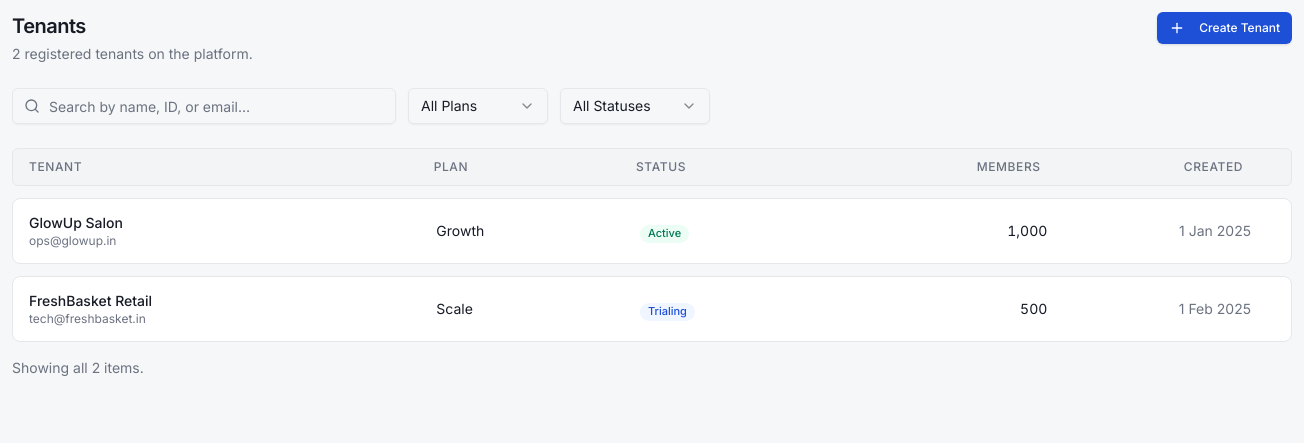
Scenario: TenantList › shows empty state when filters match no tenants (positive)
Step 1. Type "xyznonexistent" into the search field named "search tenants" → point(204, 106), box [12,88,396,124]
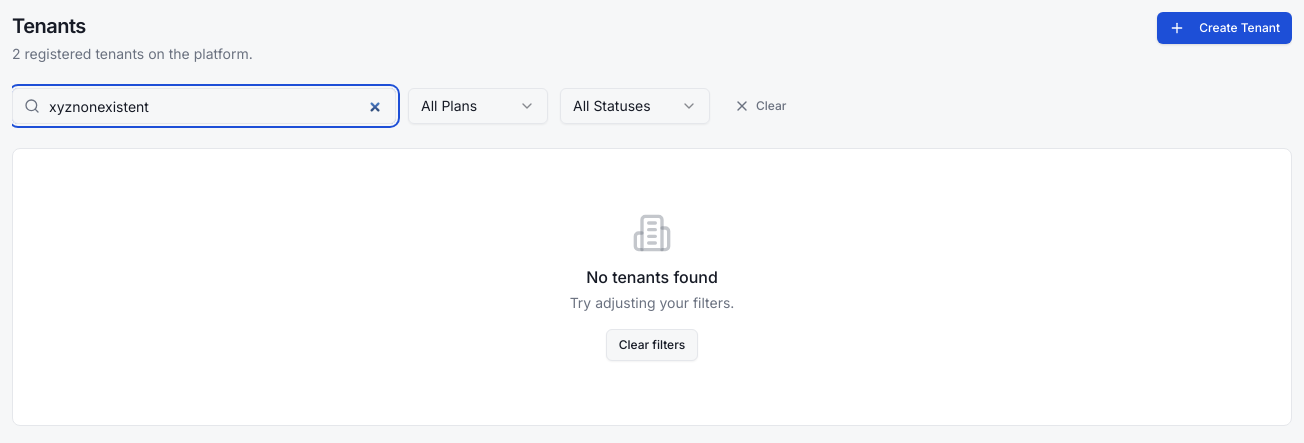
expect the text "No tenants found" is shown: met, box [586,265,718,289]
